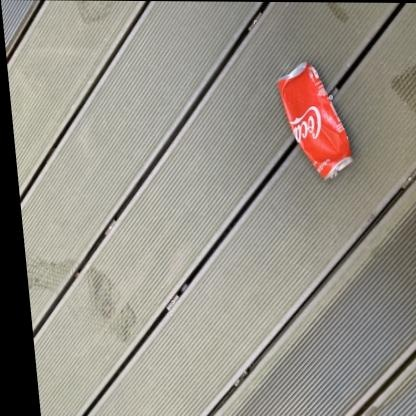trash: (277, 63, 351, 178)
